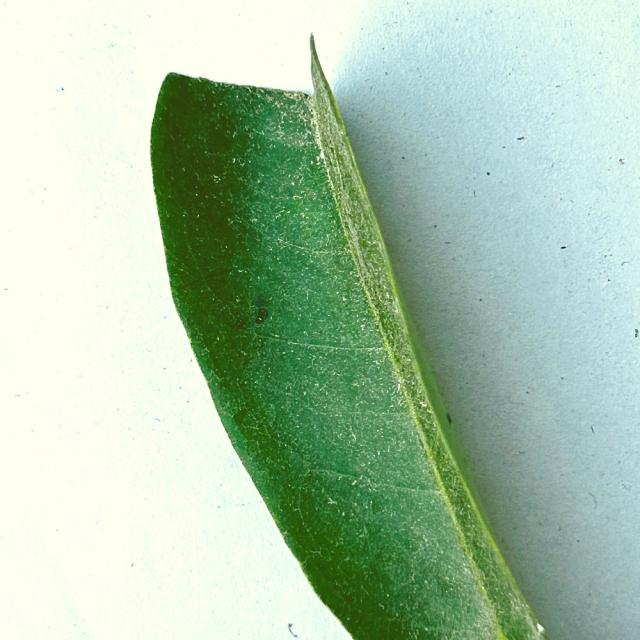Deficiency Leaf: (158, 33, 335, 108)
Lychee: (151, 74, 537, 639)
